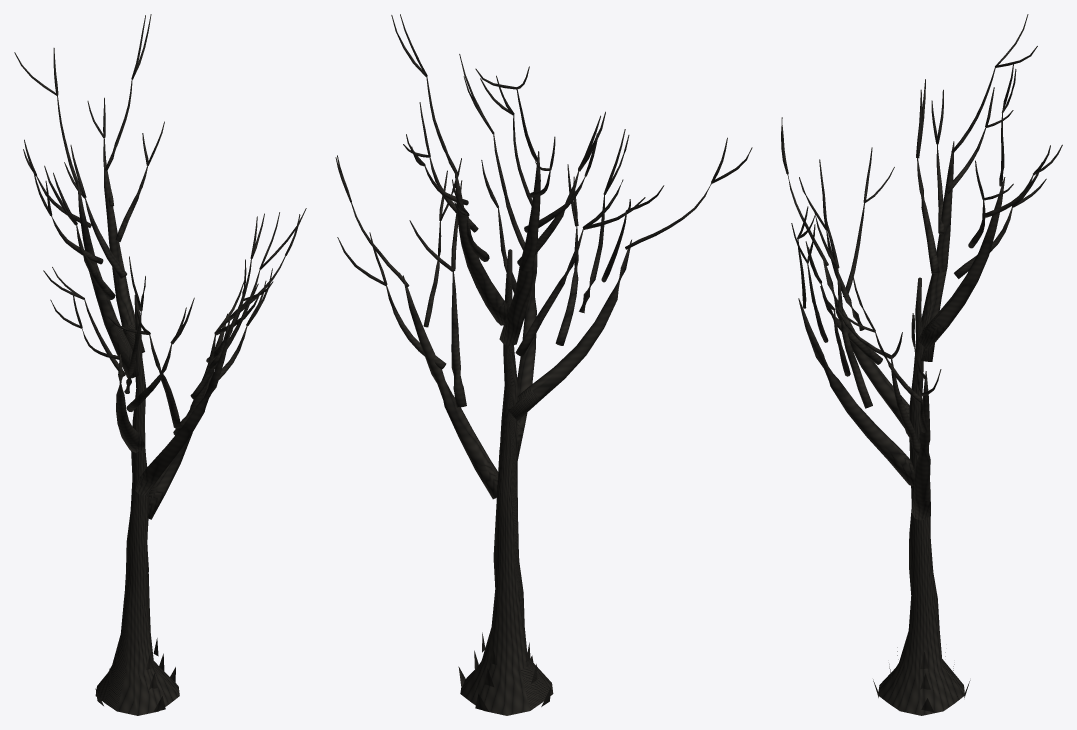
Rendered from dead.glb.
The picture shows the model from 3 angles, left to right: view 1: azimuth 30°, elevation 25°; view 2: azimuth 150°, elevation 25°; view 3: azimuth 270°, elevation 25°; orthographic projection. The views are drawn at different scales.
Parts seen in each view (by area): view 1: trunk, branch_1, branch_3, branch_4, branch_0, branch_2, branch_4_sub0, branch_1_sub0, branch_3_sub0; view 2: trunk, branch_0, branch_2, branch_3, branch_4, branch_1, branch_0_sub0, branch_1_sub0, branch_2_sub0; view 3: trunk, branch_1, branch_4, branch_3, branch_0, branch_2, branch_1_sub0, branch_3_sub0, branch_0_sub0, branch_2_sub0.
Part boxes in pixels (x1,y1,x2,y2): trunk: (95, 295, 179, 715); branch_1: (135, 331, 230, 495); branch_3: (77, 181, 139, 378); branch_4: (104, 160, 144, 352); branch_0: (147, 313, 227, 519); branch_2: (116, 354, 145, 452); branch_4_sub0: (85, 197, 126, 278); branch_1_sub0: (149, 334, 181, 428); branch_3_sub0: (76, 225, 115, 299); trunk: (458, 249, 553, 715); branch_0: (402, 275, 498, 499); branch_2: (507, 239, 631, 420); branch_3: (499, 151, 540, 346); branch_4: (455, 167, 509, 325); branch_1: (517, 236, 537, 461); branch_0_sub0: (451, 271, 466, 407); branch_1_sub0: (515, 229, 583, 356); branch_2_sub0: (555, 226, 578, 345); trunk: (873, 277, 970, 715); branch_1: (798, 298, 915, 485); branch_4: (917, 177, 1005, 348); branch_3: (914, 141, 954, 361); branch_0: (912, 371, 930, 520); branch_2: (822, 256, 909, 427); branch_1_sub0: (837, 268, 872, 408); branch_3_sub0: (917, 158, 939, 273); branch_0_sub0: (891, 359, 920, 457); branch_2_sub0: (820, 283, 882, 364).
Bounding box in the file's own units: 6.54 × 12.65 × 4.92.
1 material, 1 textured.
